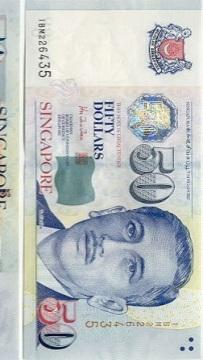50SingaporeDollar: (26, 0, 199, 360)
